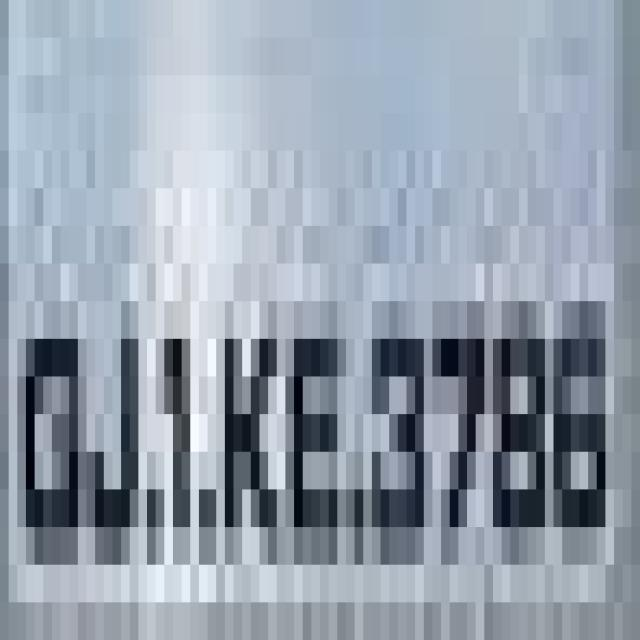license_plate: (0, 37, 614, 640)
